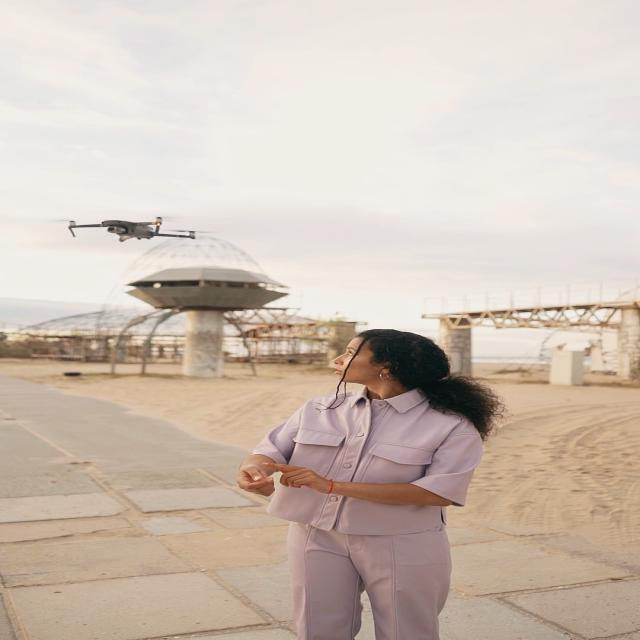Drone: (52, 210, 199, 252)
